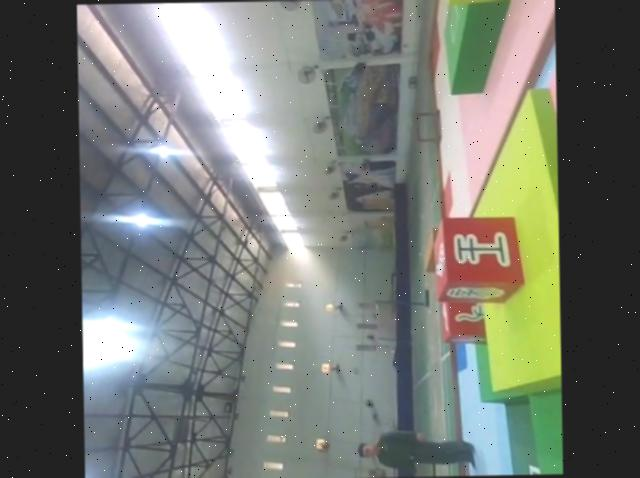R2 Fake: (431, 216, 525, 305)
R2 Real: (439, 296, 491, 346)
